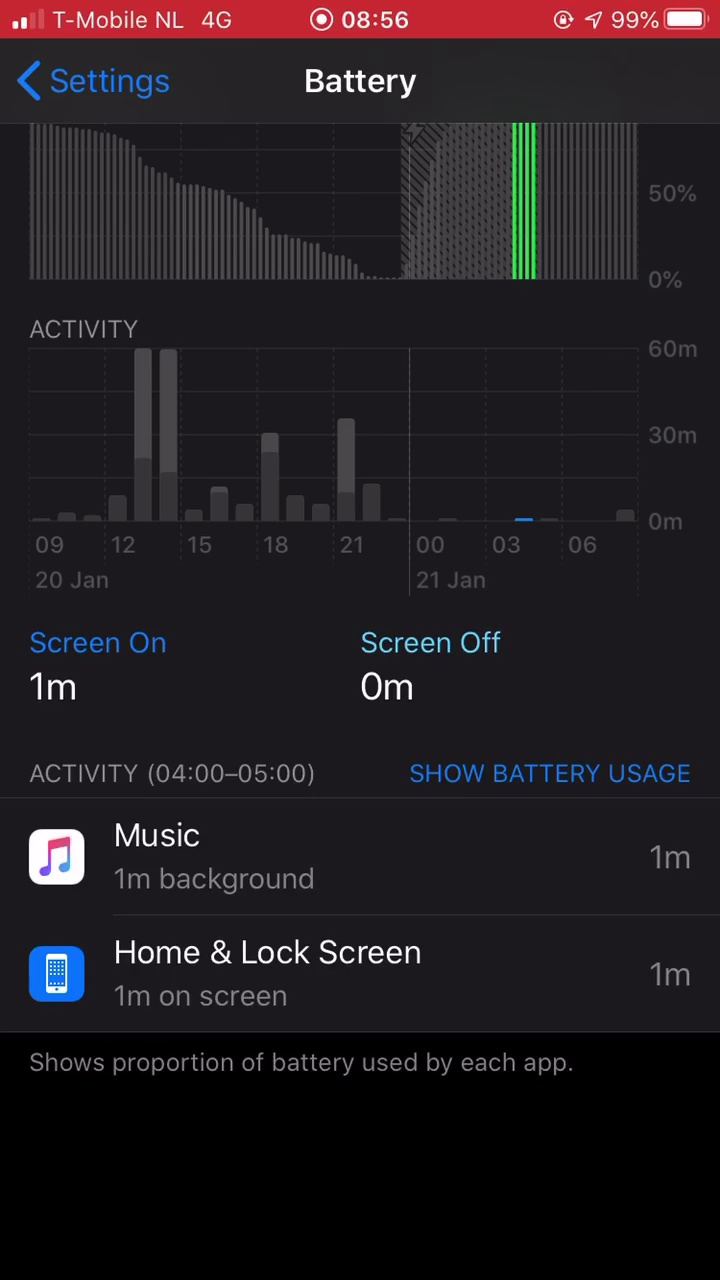activity: (28, 749, 354, 814)
app: (21, 822, 701, 914), (21, 931, 701, 1023)
